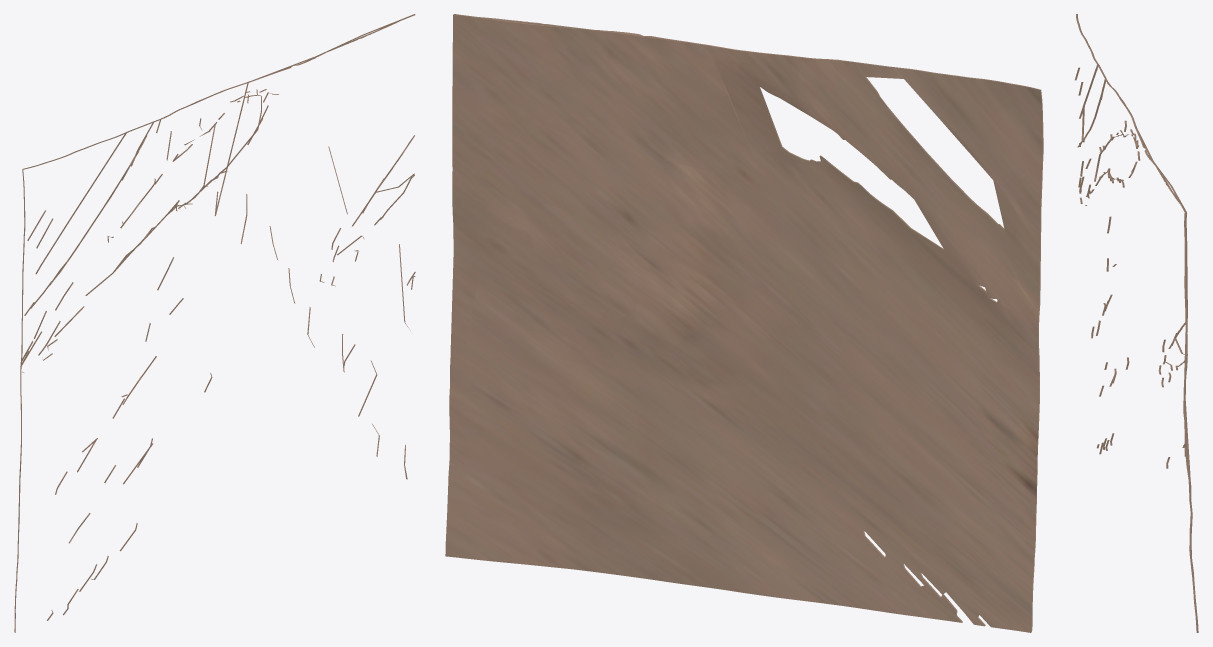
3 views of the same model, side by side, from view 1: azimuth 30°, elevation 25°; view 2: azimuth 150°, elevation 25°; view 3: azimuth 270°, elevation 25° (orthographic). The views are drawn at different scales.
Size of the model in its own units: 24.26 by 24 by 6.53.
1 material, 1 textured.
